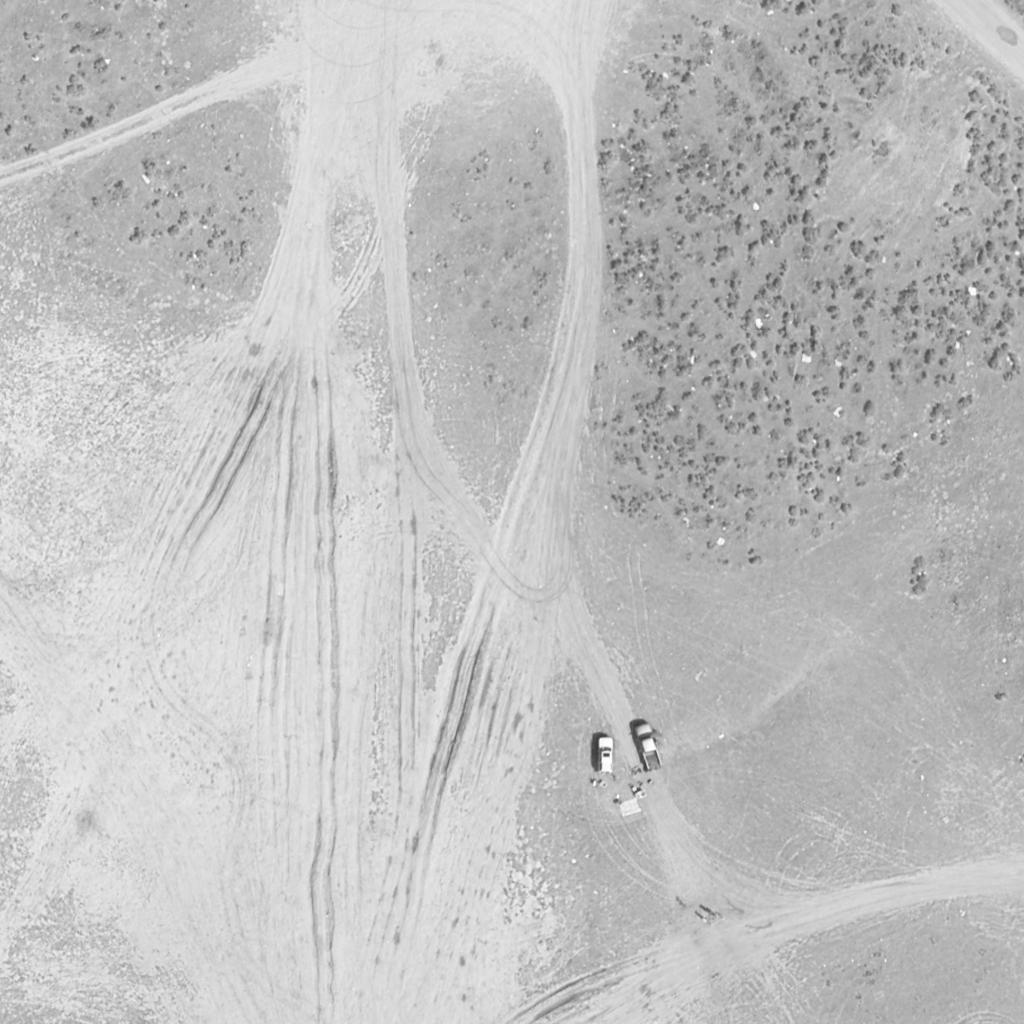vehicle: (632, 723, 664, 773), (597, 737, 615, 775)
